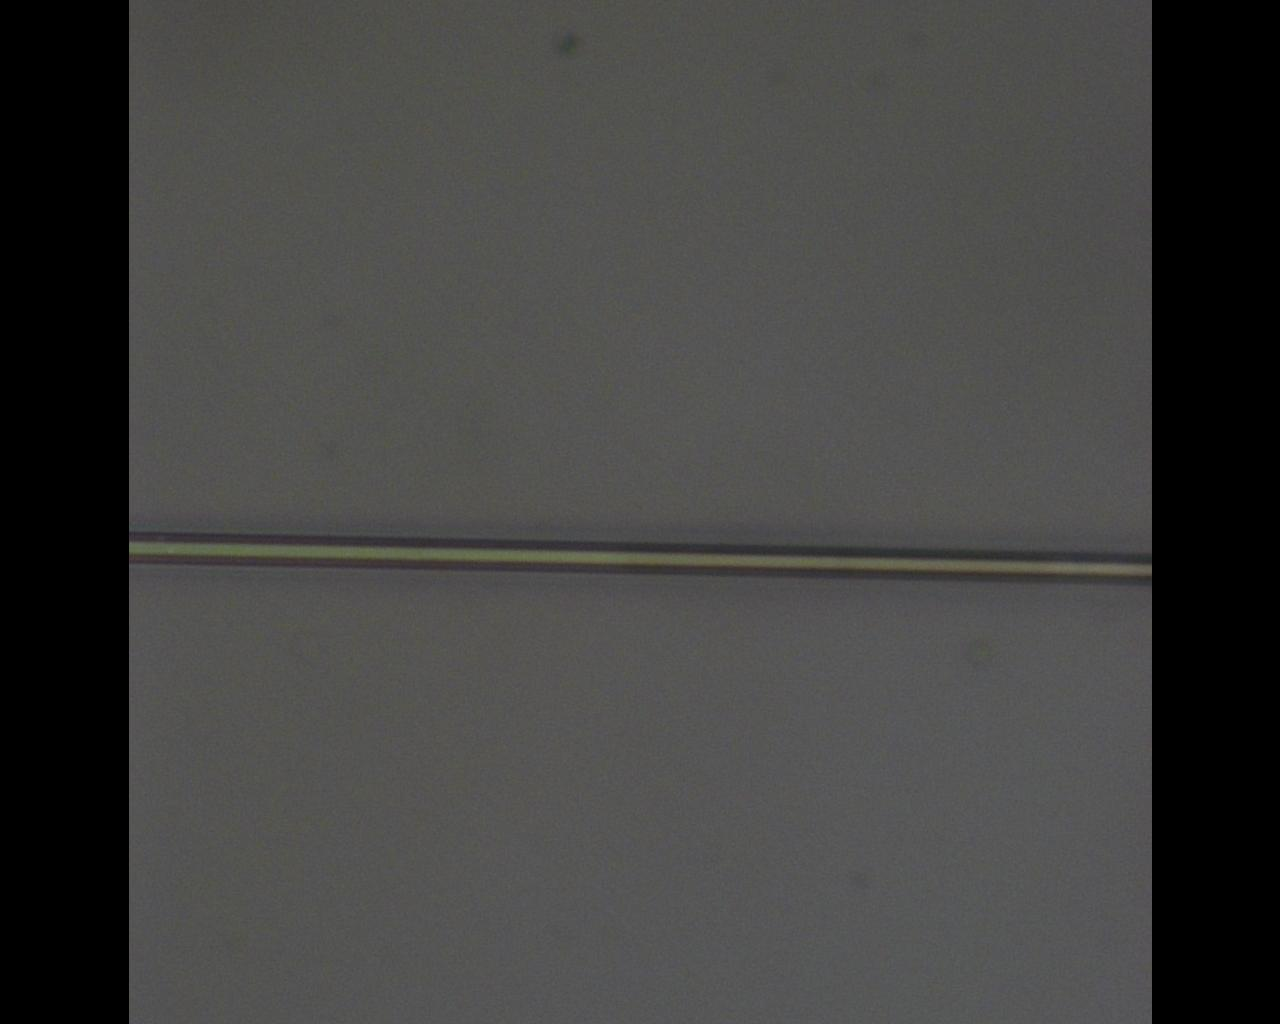fiber: (127, 532, 1151, 588)
